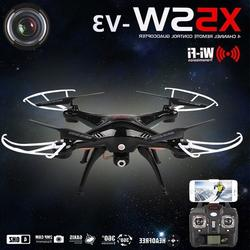drone: (1, 85, 248, 198)
